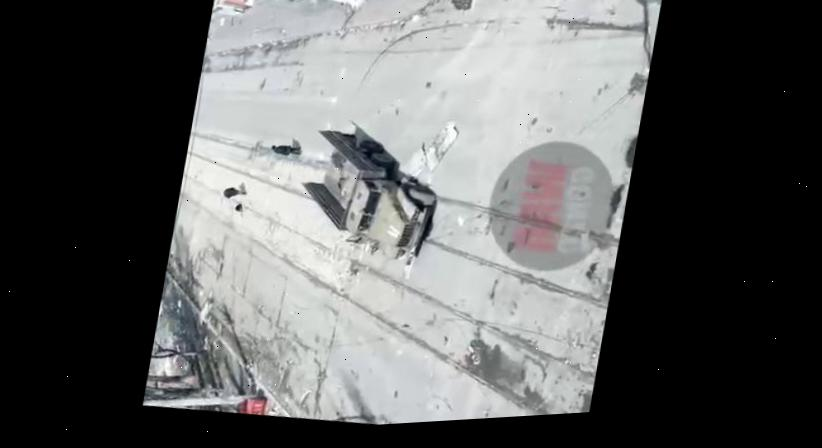person: (270, 141, 303, 158), (221, 183, 248, 201)
truck: (290, 119, 450, 273)
